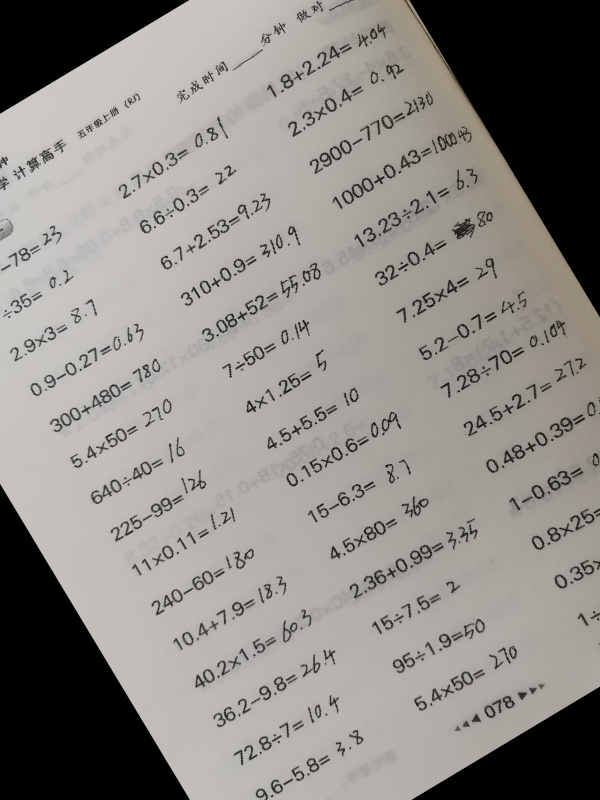equation: (333, 124, 474, 213), (350, 519, 480, 600), (308, 92, 436, 171), (211, 647, 338, 726), (461, 357, 588, 436), (441, 319, 568, 398), (352, 166, 477, 244), (191, 612, 315, 690), (374, 209, 496, 286), (202, 265, 324, 342), (485, 393, 600, 474), (181, 230, 303, 306), (266, 21, 387, 97), (286, 60, 404, 134), (284, 413, 401, 487), (174, 578, 290, 651), (29, 324, 145, 397), (158, 194, 274, 267), (116, 121, 229, 194), (49, 360, 163, 431), (418, 290, 529, 360), (232, 694, 342, 764), (254, 732, 364, 800), (149, 545, 257, 613), (129, 506, 237, 574), (69, 401, 176, 468), (413, 644, 519, 711), (328, 495, 432, 561), (307, 457, 410, 523), (136, 166, 239, 231), (107, 474, 209, 539), (397, 259, 499, 324), (509, 440, 600, 512), (89, 441, 187, 504), (264, 388, 362, 450), (392, 615, 485, 674), (241, 353, 332, 412), (9, 302, 100, 360), (222, 319, 312, 377), (371, 578, 461, 635), (530, 488, 600, 550), (552, 498, 600, 588), (0, 270, 76, 324), (0, 227, 65, 288), (577, 543, 600, 626)
